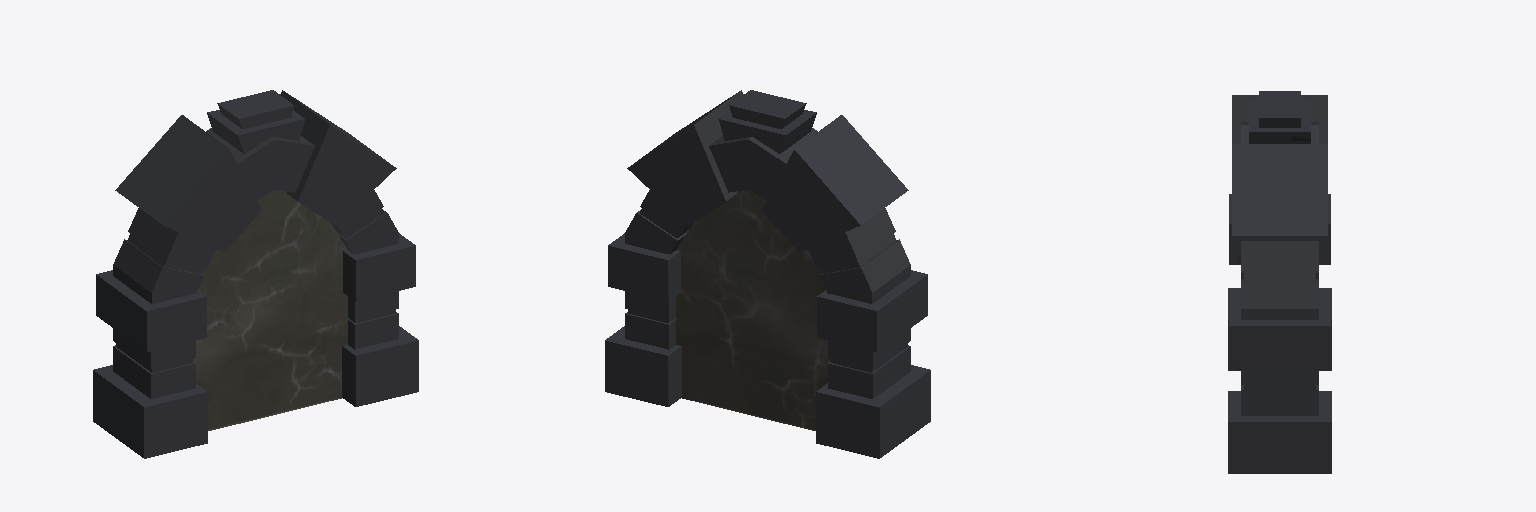
The picture shows the model from 3 angles: view 1: azimuth 30°, elevation 25°; view 2: azimuth 150°, elevation 25°; view 3: azimuth 270°, elevation 25°; orthographic projection.
Parts seen in each view (by area): view 1: door1:polySurface2, door1:polySurface3, door1:polySurface7, door1:polySurface8, door1:polySurface10, door1:polySurface4, door1:polySurface5; view 2: door1:polySurface2, door1:polySurface3, door1:polySurface7, door1:polySurface8, door1:polySurface10, door1:polySurface4, door1:polySurface5; view 3: door1:polySurface7, door1:polySurface3, door1:polySurface8, door1:polySurface10, door1:polySurface4, door1:polySurface5.
Part boxes in pixels (bbox=[...]): door1:polySurface2: bbox=[193, 190, 347, 430]; door1:polySurface3: bbox=[113, 128, 398, 398]; door1:polySurface7: bbox=[115, 90, 396, 252]; door1:polySurface8: bbox=[93, 326, 418, 458]; door1:polySurface10: bbox=[96, 233, 415, 352]; door1:polySurface4: bbox=[207, 110, 304, 153]; door1:polySurface5: bbox=[217, 90, 294, 128]; door1:polySurface2: bbox=[676, 190, 830, 430]; door1:polySurface3: bbox=[625, 128, 910, 398]; door1:polySurface7: bbox=[627, 90, 908, 252]; door1:polySurface8: bbox=[605, 326, 930, 458]; door1:polySurface10: bbox=[608, 233, 927, 352]; door1:polySurface4: bbox=[719, 110, 816, 153]; door1:polySurface5: bbox=[729, 90, 806, 128]; door1:polySurface7: bbox=[1232, 95, 1327, 248]; door1:polySurface3: bbox=[1241, 122, 1318, 415]; door1:polySurface8: bbox=[1228, 288, 1331, 473]; door1:polySurface10: bbox=[1229, 194, 1330, 366]; door1:polySurface4: bbox=[1249, 99, 1310, 143]; door1:polySurface5: bbox=[1259, 91, 1300, 127].
Size of the model in its own units: 14.8 by 15.6 by 4.82.
2 materials, 2 textured.